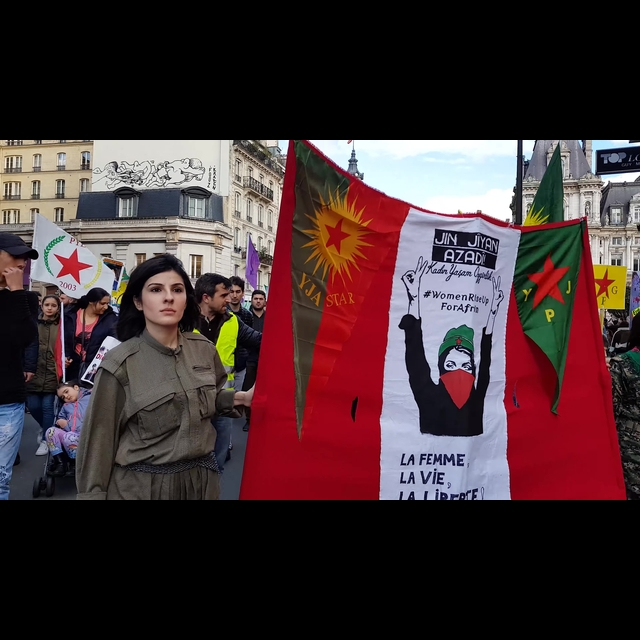PYD: (43, 224, 104, 293)
